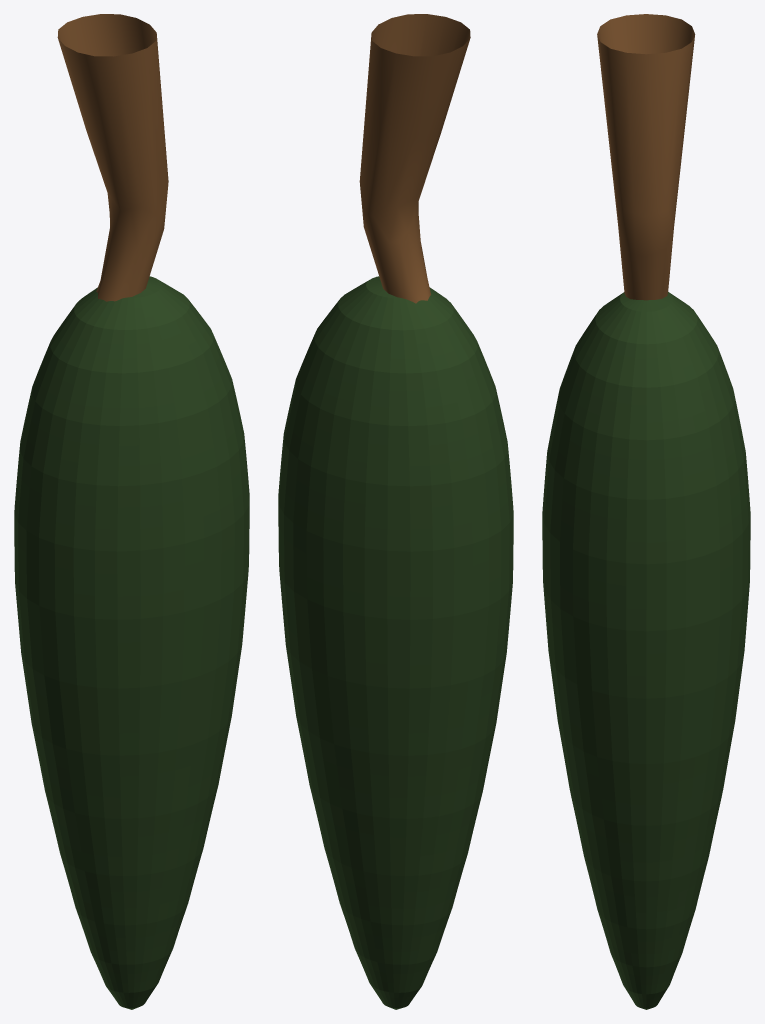
File: cyresstreebasic.fbx
3 renders of one model, left to right at view 1: azimuth 30°, elevation 25°; view 2: azimuth 150°, elevation 25°; view 3: azimuth 270°, elevation 25°, orthographic.
Parts seen in each view (by area): view 1: Sphere, RegularTree.003; view 2: Sphere, RegularTree.003; view 3: Sphere, RegularTree.003.
Part boxes in pixels (x1,y1,x2,y2): Sphere: (14,276,249,1009); RegularTree.003: (57,14,168,301); Sphere: (278,276,513,1009); RegularTree.003: (359,14,470,303); Sphere: (542,292,750,1009); RegularTree.003: (597,14,695,300).
Size of the model in its own units: 122 by 541 by 106.
